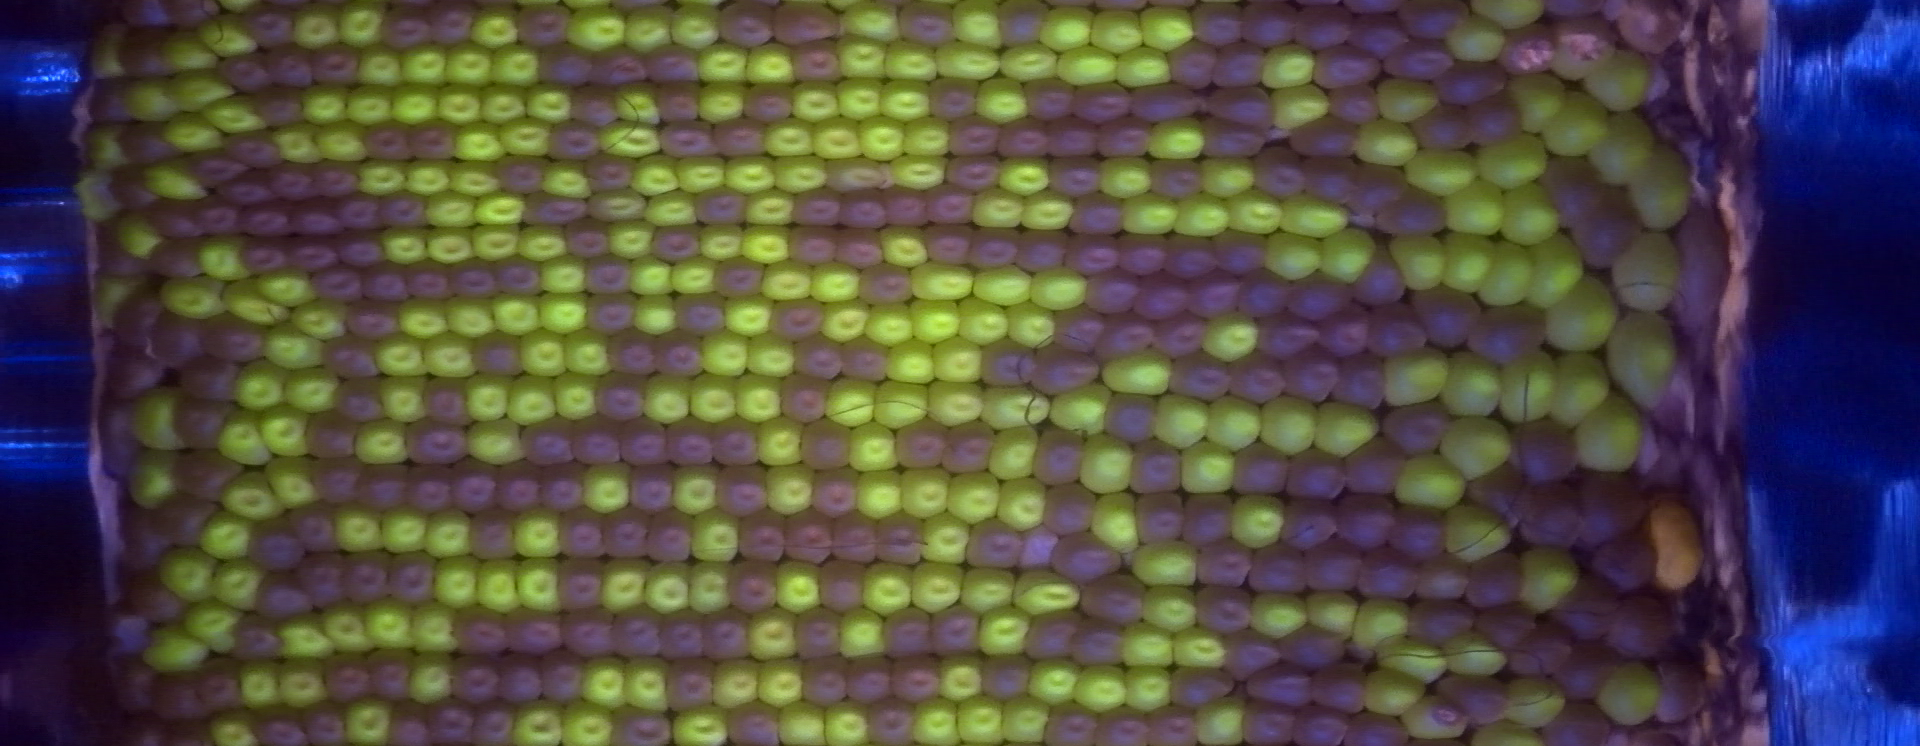fluorescent: (1607, 312, 1675, 401), (1631, 142, 1695, 229), (1548, 276, 1615, 352), (1613, 233, 1675, 306), (1380, 347, 1449, 413), (1578, 398, 1638, 465), (1441, 350, 1501, 415), (1594, 111, 1653, 178), (1500, 349, 1555, 419), (1551, 353, 1602, 428), (1544, 94, 1608, 152), (1600, 657, 1657, 722), (1442, 424, 1510, 477), (159, 544, 220, 601), (982, 381, 1051, 431), (1442, 176, 1506, 230), (1528, 236, 1580, 303), (1589, 49, 1646, 107), (1509, 72, 1565, 130), (1318, 405, 1379, 458), (1442, 232, 1494, 294), (1400, 457, 1462, 508), (1524, 549, 1577, 609), (1387, 229, 1442, 285), (1131, 540, 1198, 587), (1265, 396, 1314, 458), (1363, 671, 1427, 719), (1500, 184, 1554, 240), (1476, 240, 1522, 305), (1401, 690, 1464, 736), (1080, 435, 1131, 492), (222, 277, 291, 318), (180, 600, 238, 650), (1375, 636, 1444, 677), (1505, 681, 1566, 728), (284, 361, 337, 415), (1357, 119, 1416, 167), (1450, 508, 1509, 556), (1479, 137, 1547, 179), (1103, 352, 1171, 393), (219, 473, 279, 519), (986, 425, 1040, 477), (142, 628, 204, 673), (1153, 392, 1204, 446), (1179, 443, 1233, 494), (1282, 196, 1348, 236), (863, 560, 913, 612), (1229, 495, 1283, 544), (958, 565, 1011, 614), (1011, 573, 1076, 614), (1090, 491, 1136, 548), (876, 376, 927, 426), (1057, 383, 1108, 434), (321, 604, 372, 654), (1266, 229, 1319, 278), (921, 514, 969, 568), (218, 410, 264, 465), (840, 603, 887, 658), (640, 371, 689, 423), (824, 372, 873, 424), (362, 601, 415, 649), (141, 390, 182, 450), (1445, 628, 1501, 673), (159, 271, 220, 311), (333, 503, 383, 552), (978, 606, 1026, 658), (1261, 39, 1314, 86), (408, 653, 454, 706), (160, 113, 220, 153), (1272, 87, 1329, 130), (83, 20, 122, 81), (998, 479, 1044, 530), (580, 654, 627, 706), (71, 170, 118, 222), (460, 370, 506, 423), (1226, 190, 1284, 230), (1300, 588, 1356, 631), (465, 419, 522, 461), (278, 614, 334, 655), (411, 601, 453, 658), (624, 5, 673, 53), (1209, 312, 1258, 360), (126, 457, 175, 505), (757, 661, 804, 710), (1209, 401, 1259, 447), (1196, 692, 1242, 744), (196, 12, 253, 53), (1354, 598, 1408, 641), (264, 328, 323, 367), (1119, 624, 1174, 665), (902, 469, 949, 518), (82, 120, 129, 169), (749, 610, 793, 661), (1074, 668, 1125, 712), (624, 659, 669, 710), (422, 336, 475, 379), (169, 72, 230, 109), (1406, 157, 1479, 187), (1381, 77, 1436, 118), (557, 370, 598, 425), (1040, 7, 1090, 51), (261, 404, 305, 454), (516, 508, 560, 559), (910, 563, 960, 608), (1120, 194, 1177, 233), (87, 274, 126, 331), (1449, 16, 1500, 59), (929, 379, 981, 421), (1019, 192, 1073, 233), (959, 301, 1007, 347), (758, 416, 803, 464), (711, 659, 759, 704), (913, 263, 969, 303), (1118, 48, 1168, 91), (1322, 232, 1373, 274), (947, 472, 989, 522), (211, 563, 261, 606), (778, 559, 820, 609), (769, 463, 811, 514), (602, 561, 644, 612), (973, 267, 1030, 305), (1198, 158, 1258, 194), (146, 163, 206, 198), (1060, 48, 1118, 85), (954, 4, 1002, 48), (446, 295, 493, 339), (1090, 10, 1139, 53), (1176, 195, 1224, 238), (1029, 663, 1078, 706), (1033, 269, 1089, 307), (977, 81, 1027, 122), (384, 372, 426, 423), (851, 418, 893, 468), (697, 43, 748, 83), (1172, 628, 1223, 669), (816, 116, 861, 162), (283, 657, 327, 703), (509, 379, 552, 426), (569, 9, 623, 47), (1149, 118, 1202, 156), (883, 341, 932, 382), (885, 43, 936, 83), (812, 265, 862, 305), (686, 560, 726, 610), (1255, 595, 1305, 636), (125, 77, 176, 116), (354, 423, 405, 462), (444, 40, 490, 85), (958, 698, 1002, 744), (937, 337, 980, 383), (437, 559, 478, 608), (519, 562, 560, 611), (938, 44, 996, 78), (162, 29, 212, 69), (396, 296, 446, 336), (204, 100, 266, 132), (391, 82, 435, 126), (201, 236, 246, 279), (200, 510, 245, 552), (737, 372, 779, 419), (842, 2, 899, 37), (1142, 5, 1190, 45), (236, 363, 284, 403), (694, 375, 735, 423), (820, 704, 869, 744), (1466, 722, 1544, 746), (1100, 160, 1153, 196), (673, 706, 727, 741), (268, 459, 311, 503), (583, 467, 626, 511), (1142, 586, 1187, 628), (913, 697, 958, 740), (522, 331, 567, 372), (490, 44, 538, 83), (453, 121, 501, 160), (599, 125, 658, 157), (820, 301, 868, 341), (469, 5, 522, 40), (272, 129, 321, 167), (645, 190, 694, 228), (778, 706, 827, 744), (1000, 43, 1054, 77), (759, 121, 813, 156), (722, 156, 776, 190), (1008, 305, 1058, 342), (241, 666, 284, 709), (317, 120, 361, 162), (856, 473, 900, 514), (383, 508, 425, 552), (516, 699, 560, 741), (890, 156, 948, 187), (860, 118, 905, 158), (260, 267, 311, 303), (293, 9, 340, 47), (375, 336, 422, 374), (973, 192, 1022, 229), (356, 45, 399, 87), (1000, 160, 1054, 194), (471, 190, 525, 223), (1127, 669, 1171, 709), (902, 116, 949, 154), (356, 158, 409, 191), (673, 468, 716, 508), (704, 332, 743, 376), (429, 191, 479, 225), (538, 261, 588, 295), (838, 39, 883, 77), (615, 85, 660, 122), (673, 156, 727, 187), (698, 88, 744, 125), (623, 258, 670, 295), (725, 298, 771, 334), (869, 307, 916, 344), (1474, 1, 1540, 27), (489, 296, 536, 332), (429, 516, 470, 556), (791, 87, 840, 121), (876, 230, 924, 265), (749, 334, 792, 374), (340, 2, 384, 40), (429, 227, 473, 265), (562, 333, 606, 371), (673, 6, 719, 43), (437, 85, 482, 121), (771, 158, 828, 187), (538, 295, 584, 331), (562, 709, 609, 745), (634, 158, 682, 192), (518, 225, 566, 260), (305, 82, 347, 121), (478, 568, 516, 611), (838, 83, 882, 120), (502, 119, 546, 156), (747, 190, 792, 225), (295, 304, 345, 336), (940, 660, 981, 699), (403, 44, 444, 82), (1002, 703, 1043, 741), (546, 165, 594, 198), (913, 303, 956, 339), (698, 514, 733, 559), (649, 568, 684, 612), (762, 263, 807, 298), (342, 85, 388, 118), (478, 89, 524, 122), (880, 82, 927, 115), (677, 256, 718, 294), (742, 229, 790, 261), (451, 163, 500, 194), (632, 299, 675, 333), (749, 49, 793, 82), (475, 220, 516, 256), (528, 85, 571, 118), (345, 704, 388, 737), (407, 160, 451, 191), (610, 222, 647, 258), (700, 229, 746, 258), (122, 218, 158, 252), (208, 717, 252, 744), (383, 229, 422, 258)
nonfluorescent: (1676, 209, 1728, 338), (891, 409, 965, 475), (1577, 187, 1637, 267), (1549, 571, 1618, 639), (1542, 152, 1597, 232), (1610, 594, 1678, 659), (1380, 399, 1458, 454), (1573, 473, 1644, 533), (1387, 501, 1453, 562), (1354, 548, 1420, 609), (1524, 486, 1589, 548), (1418, 284, 1482, 345), (1480, 309, 1549, 365), (1030, 426, 1092, 488), (1512, 419, 1577, 478), (1349, 439, 1412, 499), (1333, 491, 1396, 551), (924, 598, 984, 660), (1078, 573, 1149, 625), (1440, 675, 1517, 722), (340, 544, 396, 609), (1591, 537, 1657, 590), (162, 447, 241, 491), (1127, 441, 1191, 495), (118, 503, 167, 575), (1291, 445, 1349, 503), (1278, 622, 1351, 670), (382, 546, 438, 608), (1187, 581, 1251, 633), (197, 307, 263, 359), (1509, 622, 1575, 674), (400, 420, 475, 465), (1135, 488, 1191, 548), (1309, 660, 1371, 714), (964, 519, 1027, 572), (1042, 484, 1100, 541), (1338, 358, 1400, 412), (300, 453, 362, 506), (1357, 252, 1420, 304), (1367, 303, 1422, 361), (173, 396, 228, 454), (1660, 660, 1709, 726), (1277, 499, 1337, 552), (1404, 103, 1472, 151), (768, 6, 842, 49), (1033, 349, 1102, 396), (1477, 465, 1534, 521), (1232, 445, 1291, 499), (945, 420, 1005, 473), (193, 657, 246, 717), (1436, 64, 1510, 107), (315, 650, 377, 701), (350, 118, 414, 167), (872, 513, 929, 567), (1313, 47, 1385, 89), (709, 414, 762, 473), (98, 391, 133, 478), (536, 650, 588, 710), (415, 377, 478, 426), (245, 526, 307, 575), (1166, 661, 1233, 707), (1247, 668, 1318, 710), (523, 412, 579, 465), (829, 511, 887, 563), (980, 652, 1037, 704), (571, 415, 629, 467), (1195, 119, 1270, 159), (156, 497, 216, 548), (1221, 627, 1282, 676), (180, 356, 242, 404), (1348, 156, 1402, 211), (1468, 97, 1524, 149), (666, 414, 722, 467), (358, 459, 410, 516), (616, 421, 673, 473), (1051, 541, 1122, 583), (451, 458, 498, 519), (302, 413, 365, 459), (699, 608, 753, 661), (785, 511, 838, 566), (561, 608, 616, 660), (403, 461, 454, 517), (1247, 148, 1304, 198), (1104, 390, 1155, 447), (1237, 272, 1296, 321), (591, 374, 650, 423), (1177, 495, 1236, 544), (451, 608, 509, 657), (1070, 82, 1135, 126), (1407, 599, 1468, 646), (1300, 550, 1362, 597), (887, 650, 940, 703), (813, 561, 864, 616), (1211, 229, 1273, 274), (1190, 274, 1253, 320), (1228, 356, 1291, 402), (503, 612, 566, 658), (104, 344, 154, 401), (540, 458, 588, 517), (299, 551, 347, 610), (1385, 40, 1452, 82), (1380, 191, 1447, 233), (898, 1, 958, 48), (1091, 701, 1152, 746), (662, 659, 715, 712), (840, 653, 893, 706), (800, 420, 853, 472), (882, 608, 936, 659), (1240, 1, 1296, 51), (658, 611, 714, 660), (496, 654, 545, 710), (1291, 2, 1348, 50), (252, 570, 310, 617), (1068, 624, 1127, 670), (940, 154, 1008, 195), (613, 601, 659, 661), (1251, 320, 1316, 361), (718, 465, 767, 521), (1289, 278, 1360, 316), (495, 457, 542, 513), (1021, 612, 1078, 660), (1130, 82, 1199, 121), (1251, 544, 1309, 590), (1472, 603, 1534, 646), (1133, 277, 1191, 322), (724, 701, 782, 746), (1413, 560, 1473, 604), (737, 510, 789, 561), (118, 575, 178, 619), (1289, 119, 1357, 158), (555, 560, 609, 609), (718, 2, 773, 50), (1318, 83, 1379, 126), (767, 298, 828, 341), (372, 646, 415, 707), (1402, 1, 1467, 42), (1082, 276, 1147, 316), (1543, 706, 1608, 746), (651, 510, 698, 566), (1201, 88, 1275, 124), (1187, 1, 1244, 47), (538, 44, 595, 89), (607, 511, 658, 562), (560, 511, 611, 561), (1014, 225, 1067, 274), (465, 510, 518, 559), (1174, 354, 1234, 397), (1469, 554, 1524, 600), (1044, 699, 1100, 746), (667, 296, 729, 338), (966, 225, 1024, 269), (1096, 320, 1158, 360), (113, 653, 153, 715), (1289, 350, 1338, 402), (473, 332, 524, 381), (448, 657, 500, 706), (714, 254, 767, 301), (947, 118, 1008, 158), (151, 191, 200, 241), (609, 328, 659, 377), (291, 503, 342, 552), (928, 73, 980, 121), (1303, 153, 1356, 200), (775, 374, 828, 420), (118, 122, 176, 164), (1020, 76, 1074, 121), (326, 376, 380, 421), (1347, 13, 1402, 58), (307, 154, 362, 198), (1199, 541, 1254, 586), (511, 9, 571, 49), (800, 659, 849, 708), (149, 312, 197, 363), (804, 469, 857, 514), (1146, 701, 1199, 746), (655, 124, 720, 160), (1166, 235, 1220, 279), (1071, 198, 1130, 239), (860, 263, 913, 307), (650, 339, 713, 377), (647, 42, 702, 85), (924, 183, 980, 225), (650, 223, 705, 266), (980, 342, 1035, 385), (241, 6, 298, 48), (624, 469, 676, 514), (427, 701, 479, 746), (842, 339, 895, 383), (122, 33, 176, 76), (791, 337, 846, 379), (1240, 704, 1296, 746), (340, 303, 400, 341), (1316, 309, 1367, 354), (796, 608, 841, 658), (1171, 40, 1215, 92), (1153, 316, 1205, 360), (1564, 647, 1615, 691), (1064, 236, 1122, 276), (790, 47, 849, 85), (1100, 121, 1158, 159), (1213, 45, 1269, 86), (324, 338, 380, 379), (869, 699, 917, 746), (616, 704, 669, 746), (413, 119, 459, 165), (383, 699, 430, 746), (996, 1, 1043, 47), (724, 562, 771, 608), (593, 45, 648, 85), (407, 262, 456, 306), (1644, 426, 1684, 481), (693, 187, 749, 225), (587, 295, 639, 336), (302, 699, 348, 746), (429, 1, 473, 49), (365, 260, 409, 307), (1340, 713, 1403, 746), (96, 224, 133, 279), (787, 228, 838, 269), (153, 682, 204, 723), (258, 706, 310, 746), (220, 127, 283, 160), (1047, 157, 1100, 196), (189, 148, 249, 183), (197, 191, 242, 236), (589, 250, 634, 295), (471, 702, 518, 746), (834, 229, 882, 272), (118, 294, 160, 342), (149, 238, 200, 278), (1048, 120, 1100, 159), (493, 156, 550, 191), (454, 257, 501, 300), (924, 222, 972, 263), (1016, 517, 1051, 575), (312, 45, 362, 85), (378, 15, 430, 53), (315, 269, 366, 307), (231, 625, 283, 663), (225, 167, 272, 208), (997, 122, 1049, 159), (551, 126, 604, 163), (233, 236, 285, 273), (264, 47, 313, 86), (716, 122, 770, 158), (1151, 163, 1202, 200), (885, 184, 928, 228), (1120, 236, 1166, 278), (841, 187, 887, 229), (741, 85, 793, 120), (1292, 710, 1344, 746), (658, 86, 707, 124), (88, 75, 126, 122), (298, 196, 340, 238), (269, 160, 316, 198), (589, 154, 636, 192), (796, 191, 842, 229), (563, 222, 610, 260), (251, 89, 302, 124), (528, 197, 596, 223), (337, 195, 384, 232), (497, 261, 545, 298), (220, 54, 269, 89), (167, 1, 223, 32), (383, 191, 429, 229), (571, 85, 613, 124), (285, 241, 336, 274), (332, 234, 384, 265), (245, 208, 298, 238), (1060, 310, 1100, 348), (121, 1, 168, 31), (111, 170, 147, 208)
